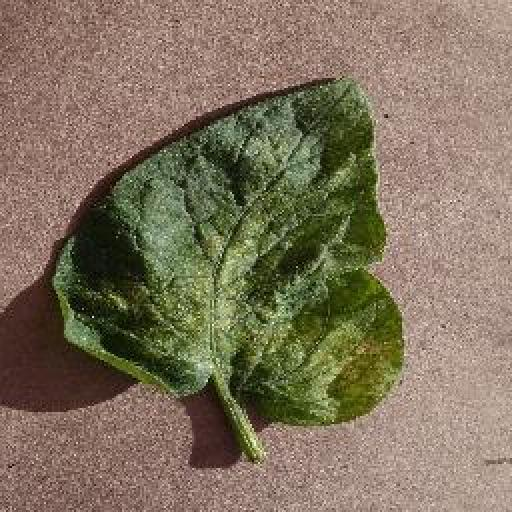disease_tomato: (54, 74, 404, 430)
